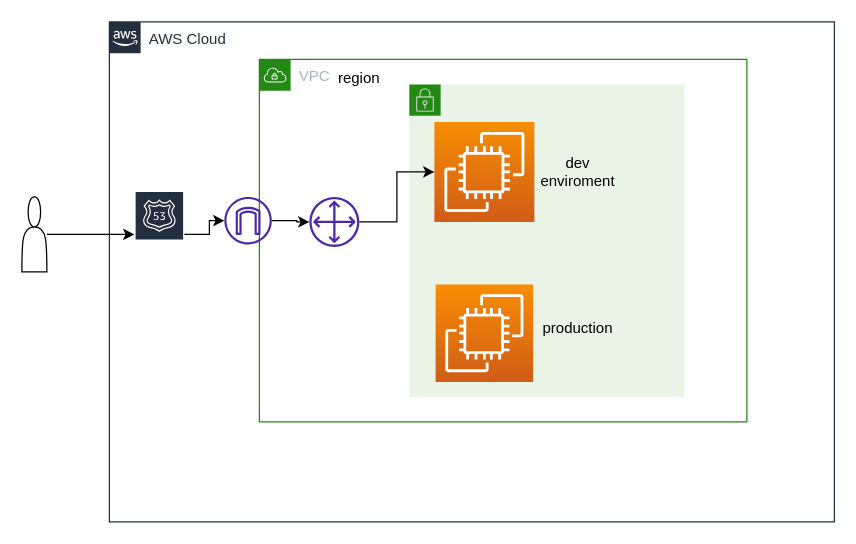
The diagram is 856 pixels wide and 544 high, and some of its shapes have lost their labels. The shapes that lost their labels are listed below. From the top down, each one's box as (x1, y1, x2, y2) in pixels, then its label:
(133, 189, 184, 278): Amazon Route 53
(408, 83, 684, 397): Public subnet
